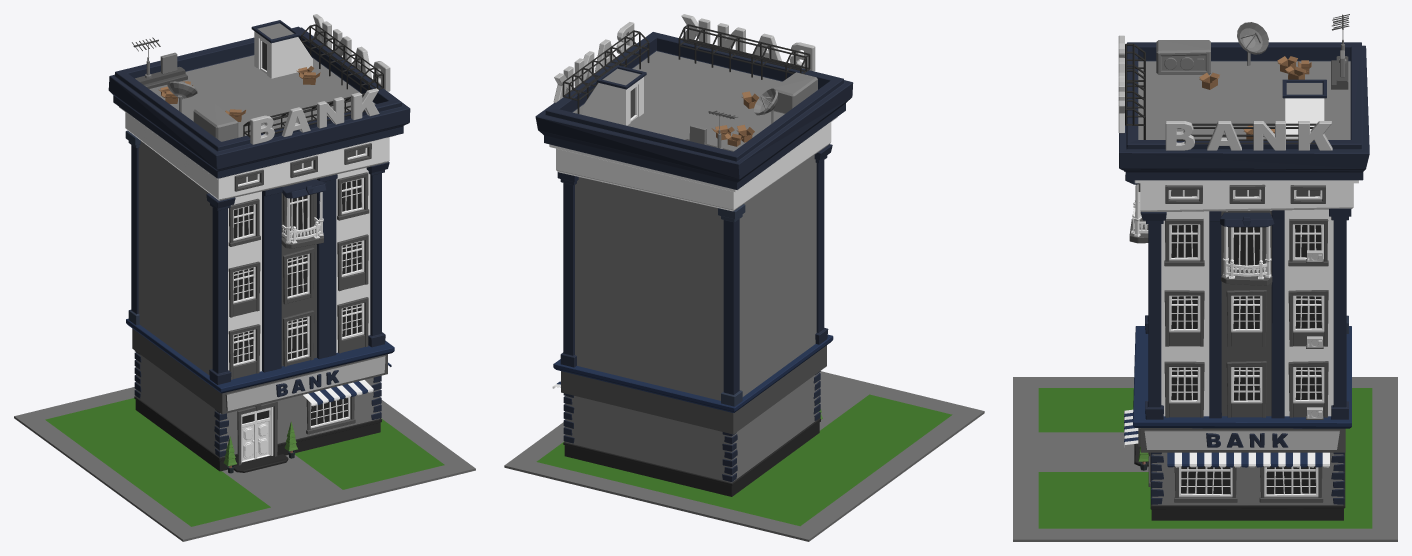
File: bank.glb
The picture shows the model from 3 angles, left to right: view 1: azimuth 30°, elevation 25°; view 2: azimuth 150°, elevation 25°; view 3: azimuth 270°, elevation 25°; orthographic projection. The views are drawn at different scales.
Visible parts, largest first — view 1: bank; view 2: bank; view 3: bank.
Boxes of the visible parts, x1,y1,x2,y2 form: bank: (14, 14, 475, 541); bank: (504, 14, 984, 541); bank: (1013, 14, 1397, 541).
Bounding box in the file's own units: 15 × 18.02 × 15.
Materials: 1 (1 with a texture image).
